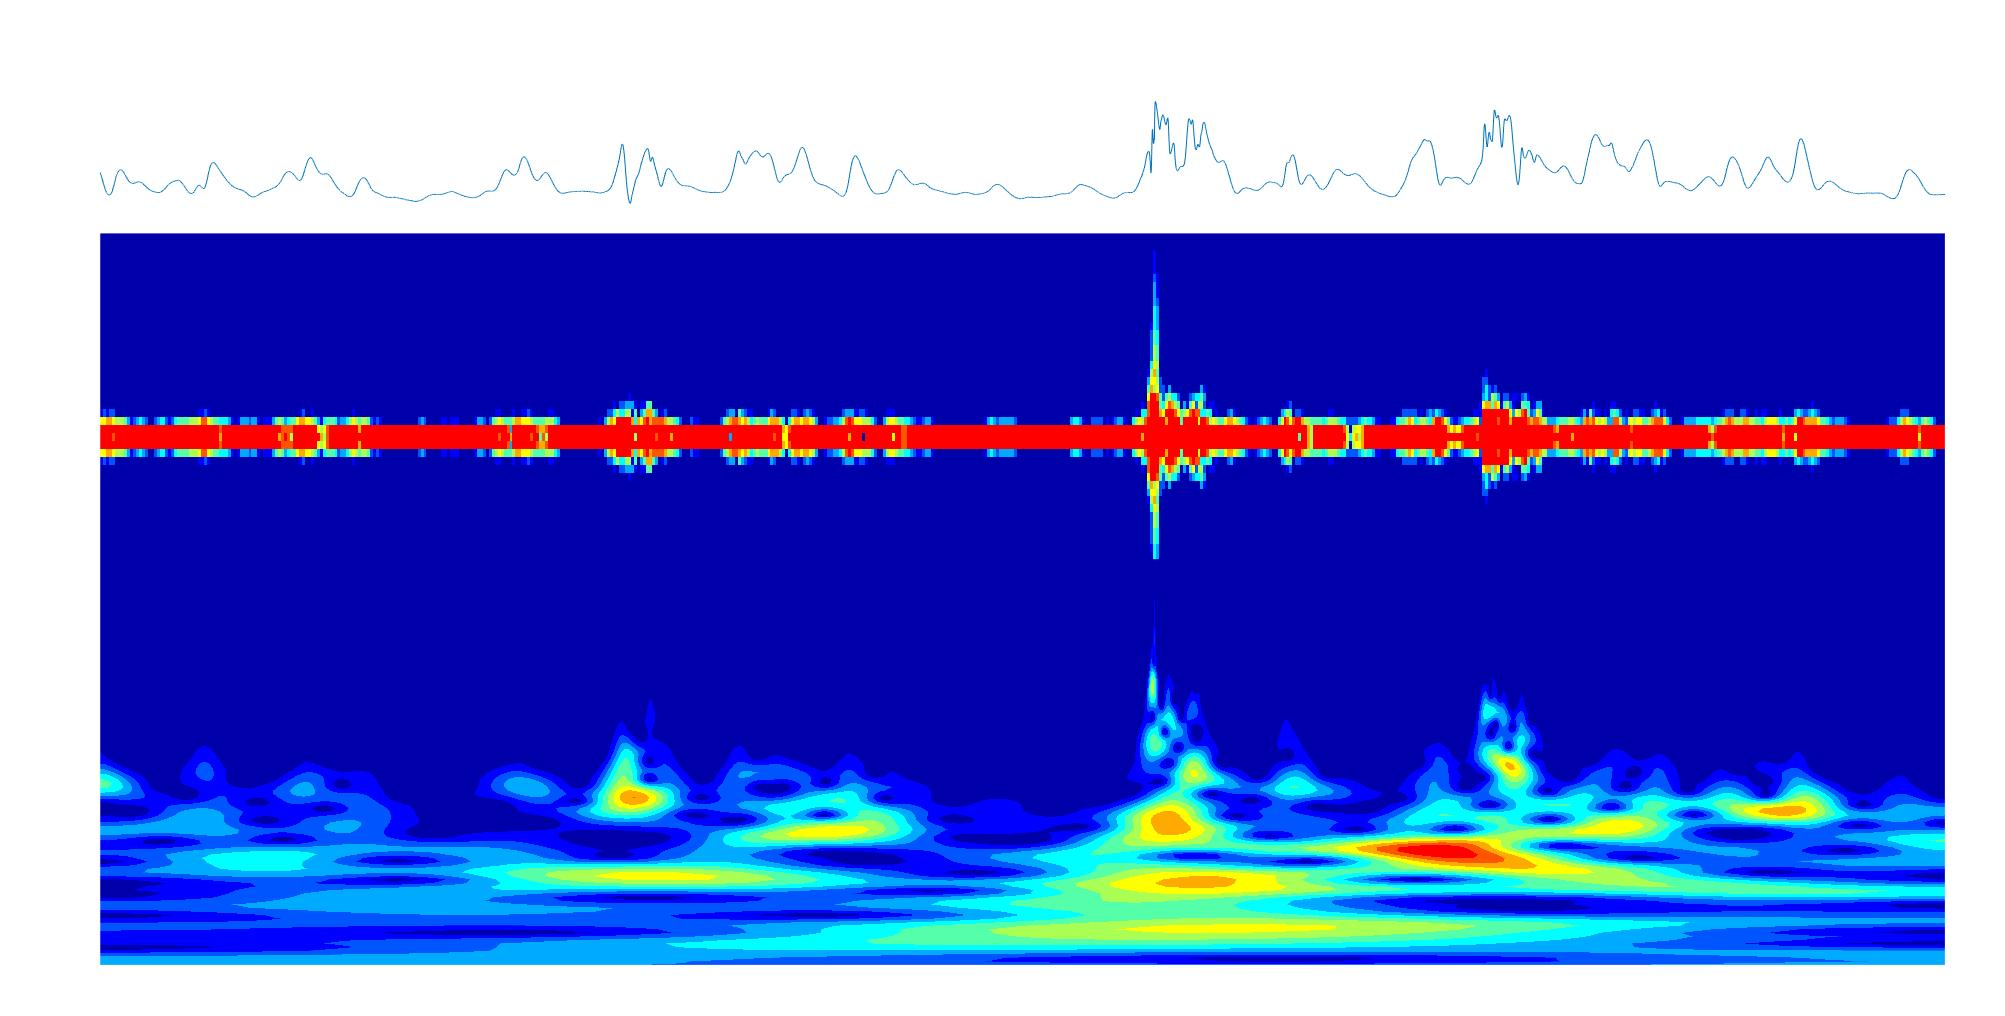TURBULENT: (1142, 236, 1177, 965)
